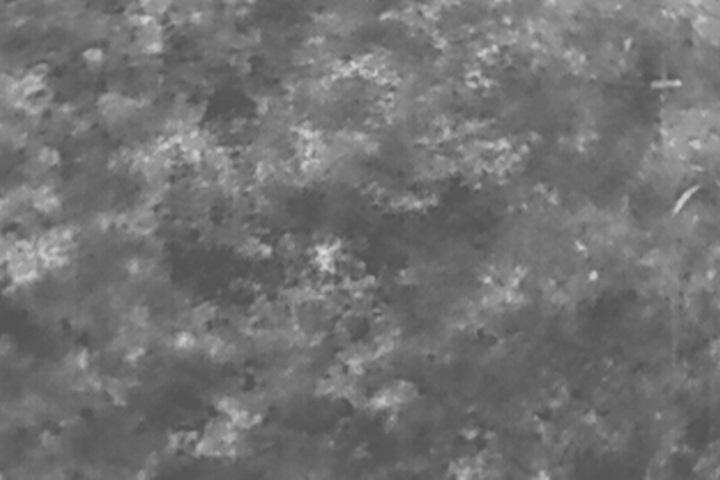landmine: (313, 237, 340, 275)
